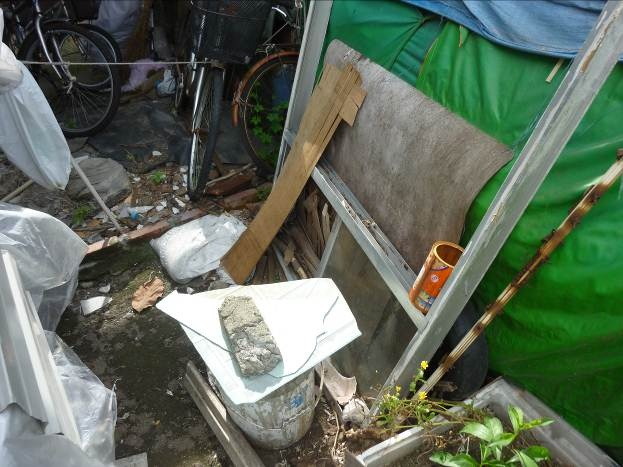bucket: (408, 239, 471, 320)
